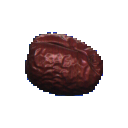ng: (20, 25, 110, 106)
